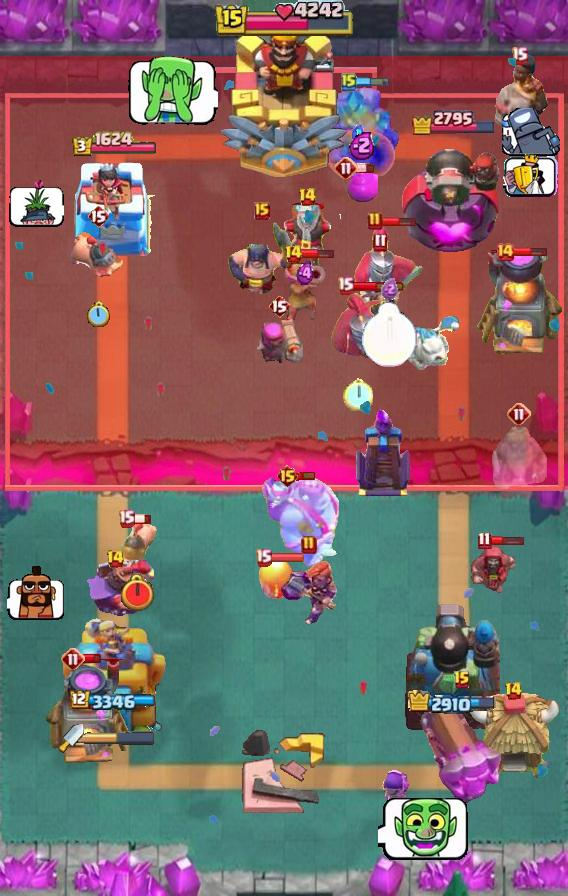bar: (61, 615, 166, 731)
bomb-tower: (284, 256, 326, 326)
bowler: (470, 544, 518, 596)
cannoneer-tower: (313, 86, 403, 176)
clock: (213, 0, 355, 40)
electro-spirit: (349, 130, 375, 160), (296, 262, 315, 287), (382, 278, 399, 300), (352, 125, 364, 141)
elite-barbarian: (489, 55, 549, 131)
elixir: (362, 302, 419, 368), (120, 573, 157, 613), (343, 377, 373, 411), (86, 301, 110, 329)
elixir-golem-big: (76, 559, 154, 621)
emote: (351, 280, 405, 292), (355, 76, 390, 88), (513, 246, 548, 258), (300, 248, 335, 260), (381, 217, 417, 228), (269, 553, 305, 564), (490, 535, 525, 546), (296, 470, 316, 482), (132, 513, 152, 525), (356, 162, 375, 174), (83, 652, 102, 664)
executioner: (71, 232, 125, 282), (116, 521, 158, 571)
furnace: (419, 692, 505, 816)
goblin: (382, 770, 410, 808)
hog: (256, 557, 296, 601)
hunter: (44, 659, 134, 767), (476, 248, 564, 358)
ice-spirit-evolution-symbol: (353, 406, 413, 498)
king-tower: (219, 23, 349, 181)
king-tower-bar: (84, 731, 156, 745)
lava-hound: (260, 474, 342, 570)
miner: (346, 172, 378, 202)
mini-pekka: (383, 313, 463, 373)
monk: (227, 222, 297, 298)
mortar: (267, 197, 347, 275)
mortar-evolution: (490, 424, 548, 492)
prince: (466, 691, 560, 781)
queen-tower: (69, 158, 159, 256)
selected: (408, 690, 498, 717), (411, 109, 498, 136), (70, 130, 157, 157), (70, 690, 158, 712)
skeleton: (127, 53, 217, 126), (378, 794, 470, 864), (6, 565, 65, 621), (502, 108, 560, 158), (8, 178, 64, 228), (503, 154, 559, 198)
tesla-evolution: (279, 560, 339, 628)
text: (334, 156, 358, 180), (507, 402, 531, 426), (61, 647, 85, 671), (276, 464, 299, 488), (87, 204, 109, 228), (268, 294, 290, 318), (495, 242, 515, 262), (298, 187, 317, 207), (285, 244, 304, 264), (106, 549, 125, 569), (505, 681, 524, 701), (453, 670, 471, 690), (337, 276, 355, 295), (511, 47, 529, 65), (117, 509, 135, 527), (341, 72, 357, 92), (367, 211, 383, 231), (301, 535, 317, 555), (256, 549, 273, 567), (254, 202, 270, 220), (477, 531, 492, 550)
tombstone: (255, 313, 303, 369)
tower-bar: (403, 601, 503, 731), (401, 138, 505, 256)
wall-breaker-evolution: (353, 224, 425, 326), (328, 290, 388, 370)
